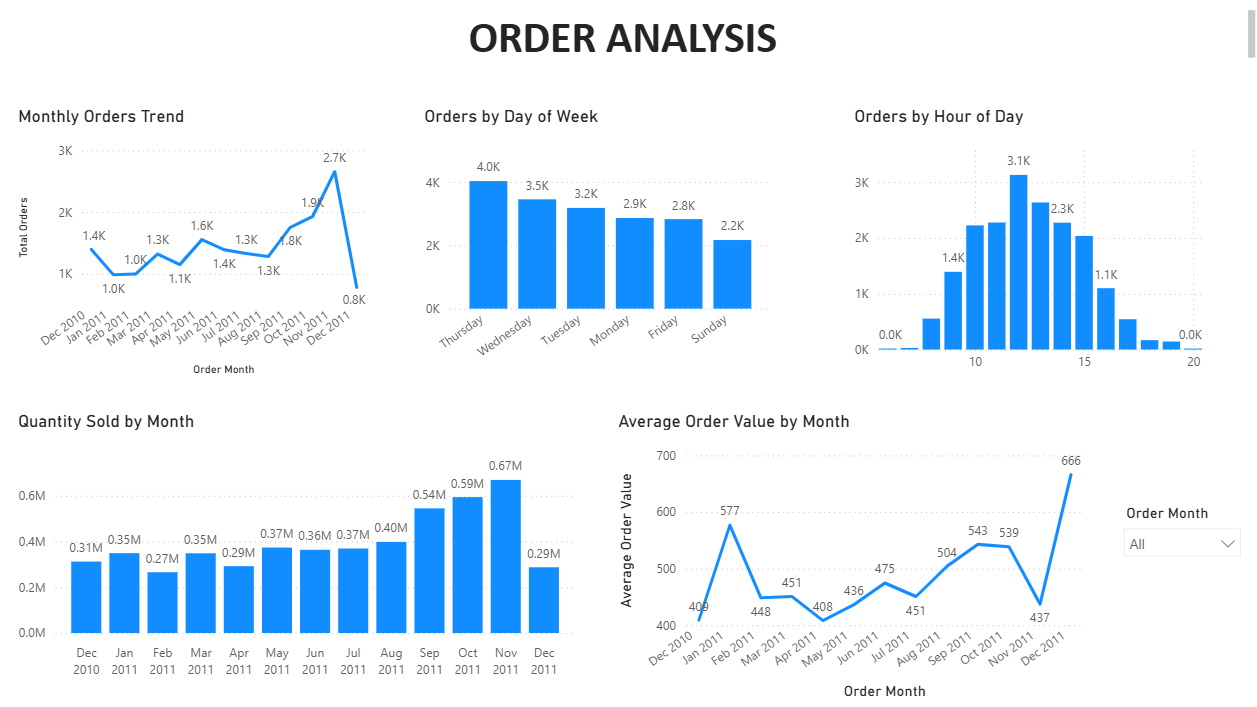

What the dashboard file says about the page in this screenshot:
{"tool":"powerbi","page":{"name":"Order Analysis","canvas":[1280,720],"ordinal":2},"visuals":[{"type":"textbox","box":[19.2,26.1,1241.9,59],"z":0},{"type":"lineChart","title":"Monthly Orders Trend","fields":{"Category":["e-commerce_data.Order Month"],"Y":["e-commerce_data.Total Orders"]},"box":[39.8,123.5,349.9,269],"z":1000},{"type":"clusteredColumnChart","title":"Orders by Day of Week","fields":{"Category":["e-commerce_data.Day Name"],"Y":["e-commerce_data.Total Orders"]},"box":[437.7,123.5,350,269],"z":2000},{"type":"clusteredColumnChart","title":"Orders by Hour of Day","fields":{"Y":["e-commerce_data.Total Orders"],"Category":["e-commerce_data.Order Hour"]},"box":[859,123.5,350,269],"z":3000},{"type":"clusteredColumnChart","title":"Quantity Sold by Month","fields":{"Category":["e-commerce_data.Order Month"],"Y":["e-commerce_data.Total Quantity"]},"box":[39.8,421.3,554.4,269],"z":4000},{"type":"lineChart","title":"Average Order Value by Month","fields":{"Category":["e-commerce_data.Order Month"],"Y":["e-commerce_data.Average Order Value"]},"box":[627.1,421.3,465.2,288.2],"z":5000},{"type":"slicer","fields":{"Values":["e-commerce_data.Order Month"]},"box":[1117,509.1,134.5,93.3],"z":6000}]}

Visuals, with their boxes in screenshot pixels (x1, y1, x2, y2), scaled from the page's 1280x720 canvas onto the 1257x707 screenshot:
textbox: box(19, 26, 1238, 84)
"Monthly Orders Trend" lineChart: box(39, 121, 383, 385)
"Orders by Day of Week" clusteredColumnChart: box(430, 121, 774, 385)
"Orders by Hour of Day" clusteredColumnChart: box(844, 121, 1187, 385)
"Quantity Sold by Month" clusteredColumnChart: box(39, 414, 584, 678)
"Average Order Value by Month" lineChart: box(616, 414, 1073, 697)
slicer - e-commerce_data.Order Month: box(1097, 500, 1229, 592)
